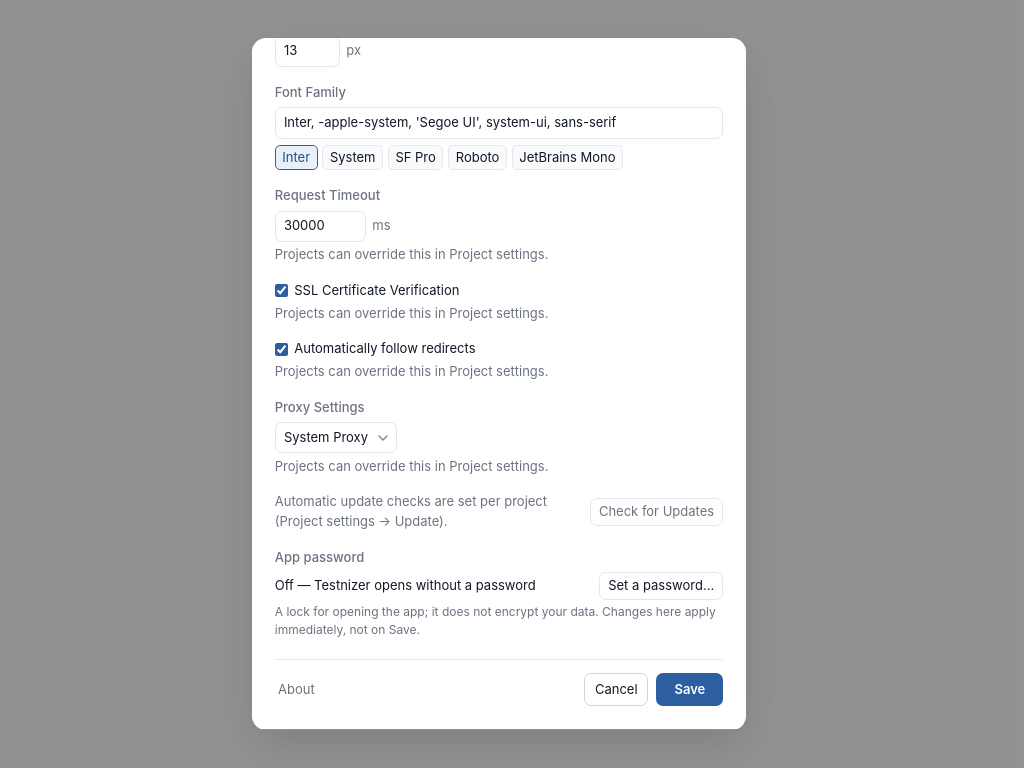
Test: Settings → App password status › shows "off" with only a Set password action when no password is set
(page scrolled)
Click the button with test id "settings-app-password-set". click: click(661, 586)
box: [599,572,723,600]
(page scrolled)
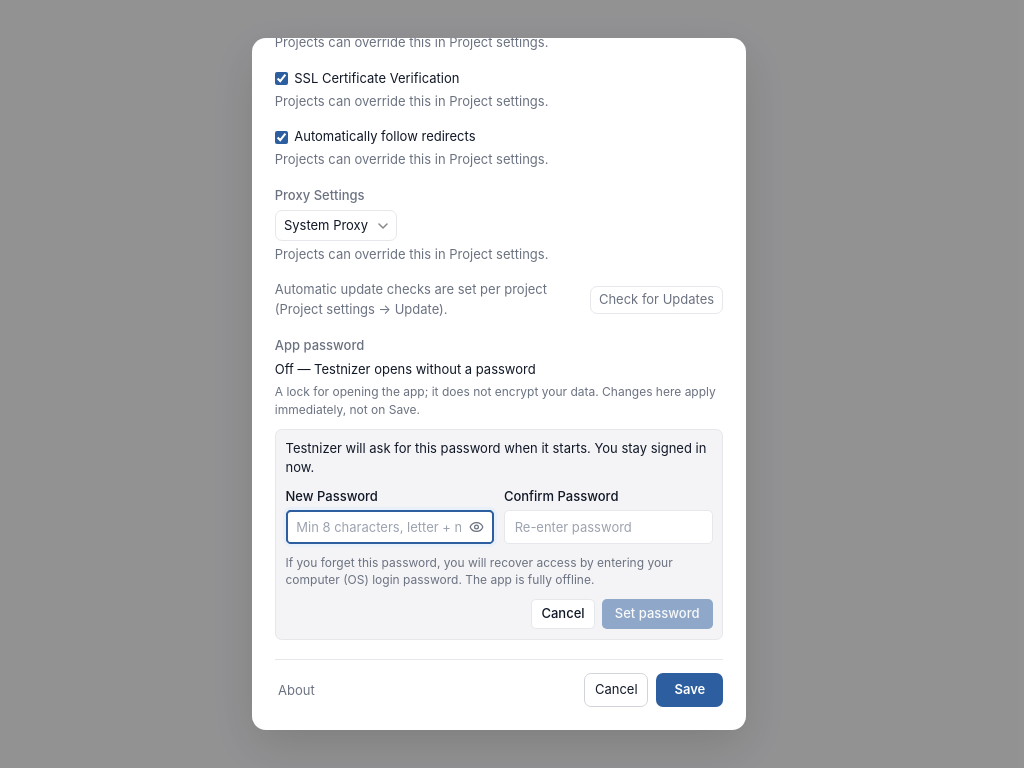
Now the form with test id "password-set-form" is shown, box [286,439,712,629]
